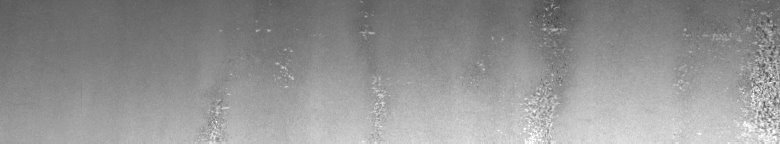hc: (673, 8, 776, 136)
